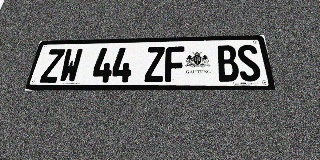4: (91, 48, 115, 82), (111, 47, 133, 82)
B: (216, 45, 240, 82)
F: (165, 46, 185, 82)
S: (236, 45, 262, 81)
W: (58, 48, 83, 83)
Z: (39, 49, 65, 83), (144, 47, 165, 82)
